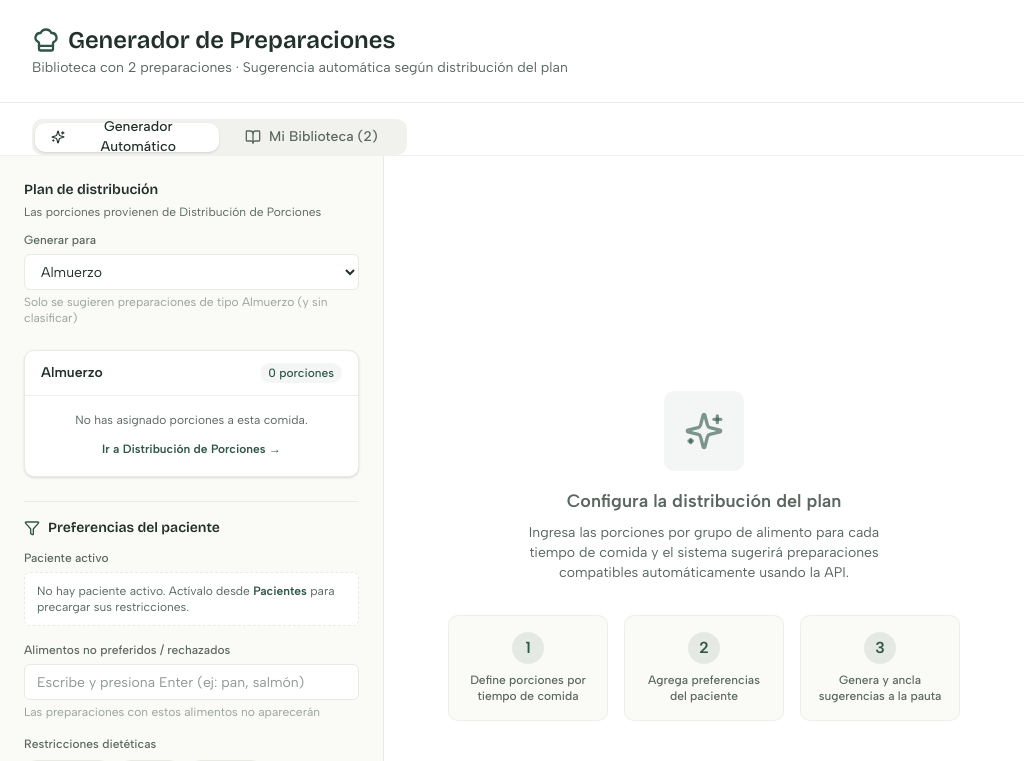
Test: GeneradorPreparaciones › pestañas › vuelve a la pestaña generador al clic en "Generador Automático"
The image size is (1024, 761).
Click the button "Mi Biblioteca (2)": point(311, 137) [219,122,404,152]
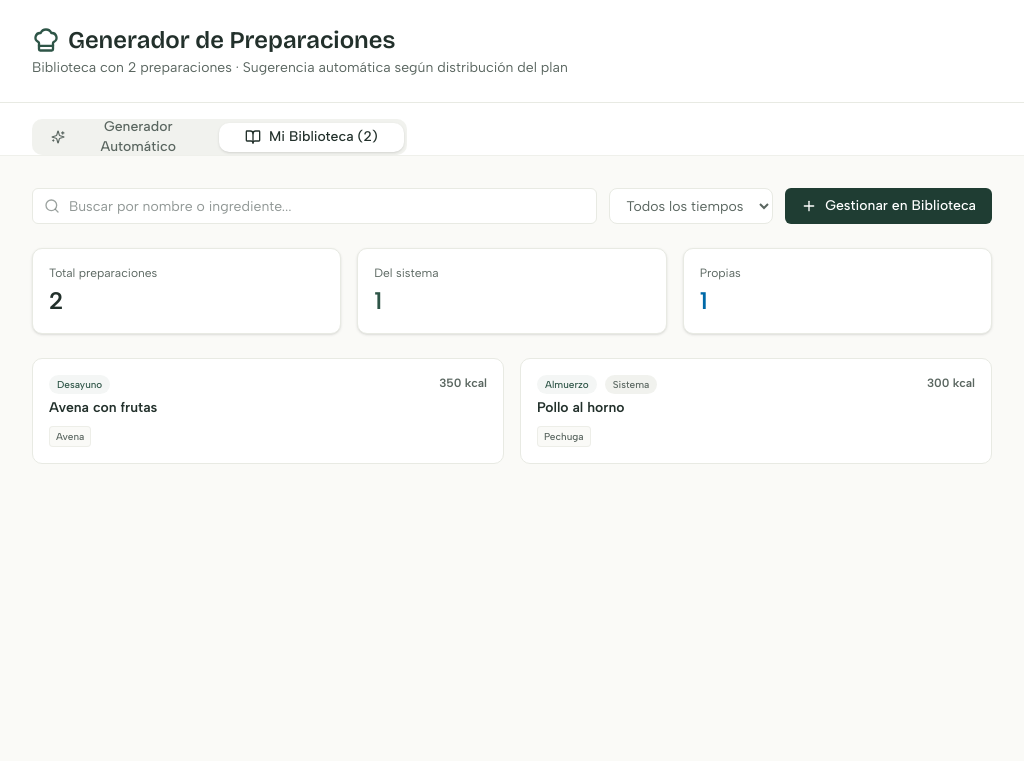
Click the button "Generador Automático": point(127, 137) [35,122,219,152]
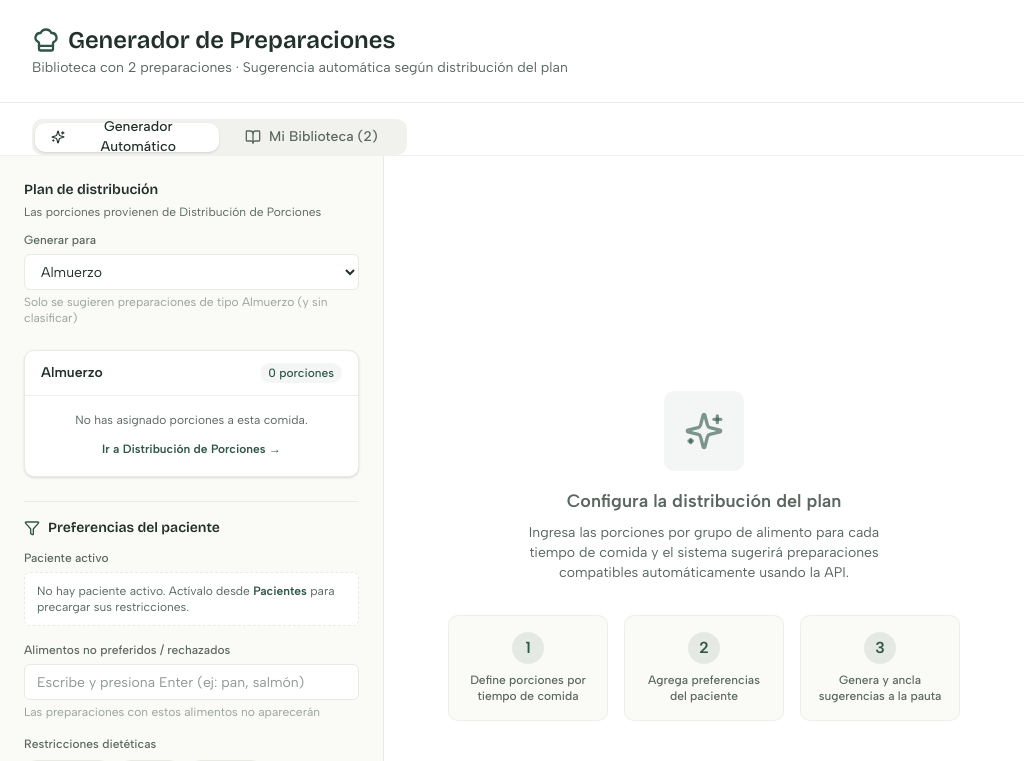
Result: the heading "Plan de distribución" is shown at [24,181,158,198]
